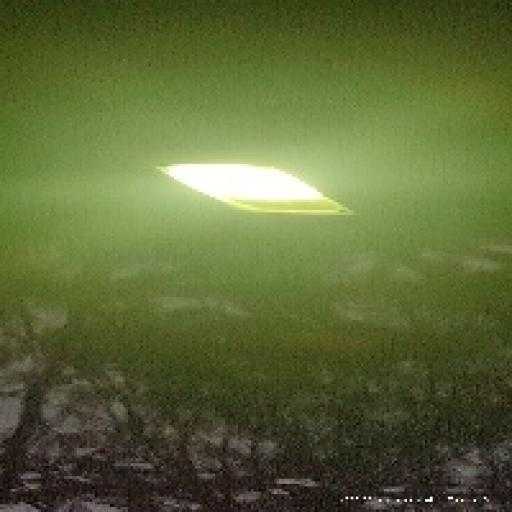Working: (148, 140, 358, 237)
